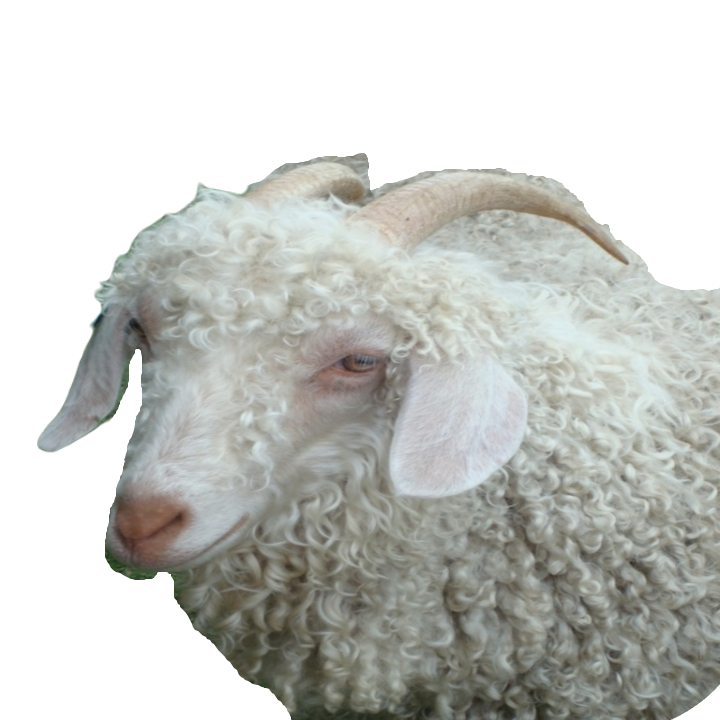Sheep: (34, 157, 715, 719)
